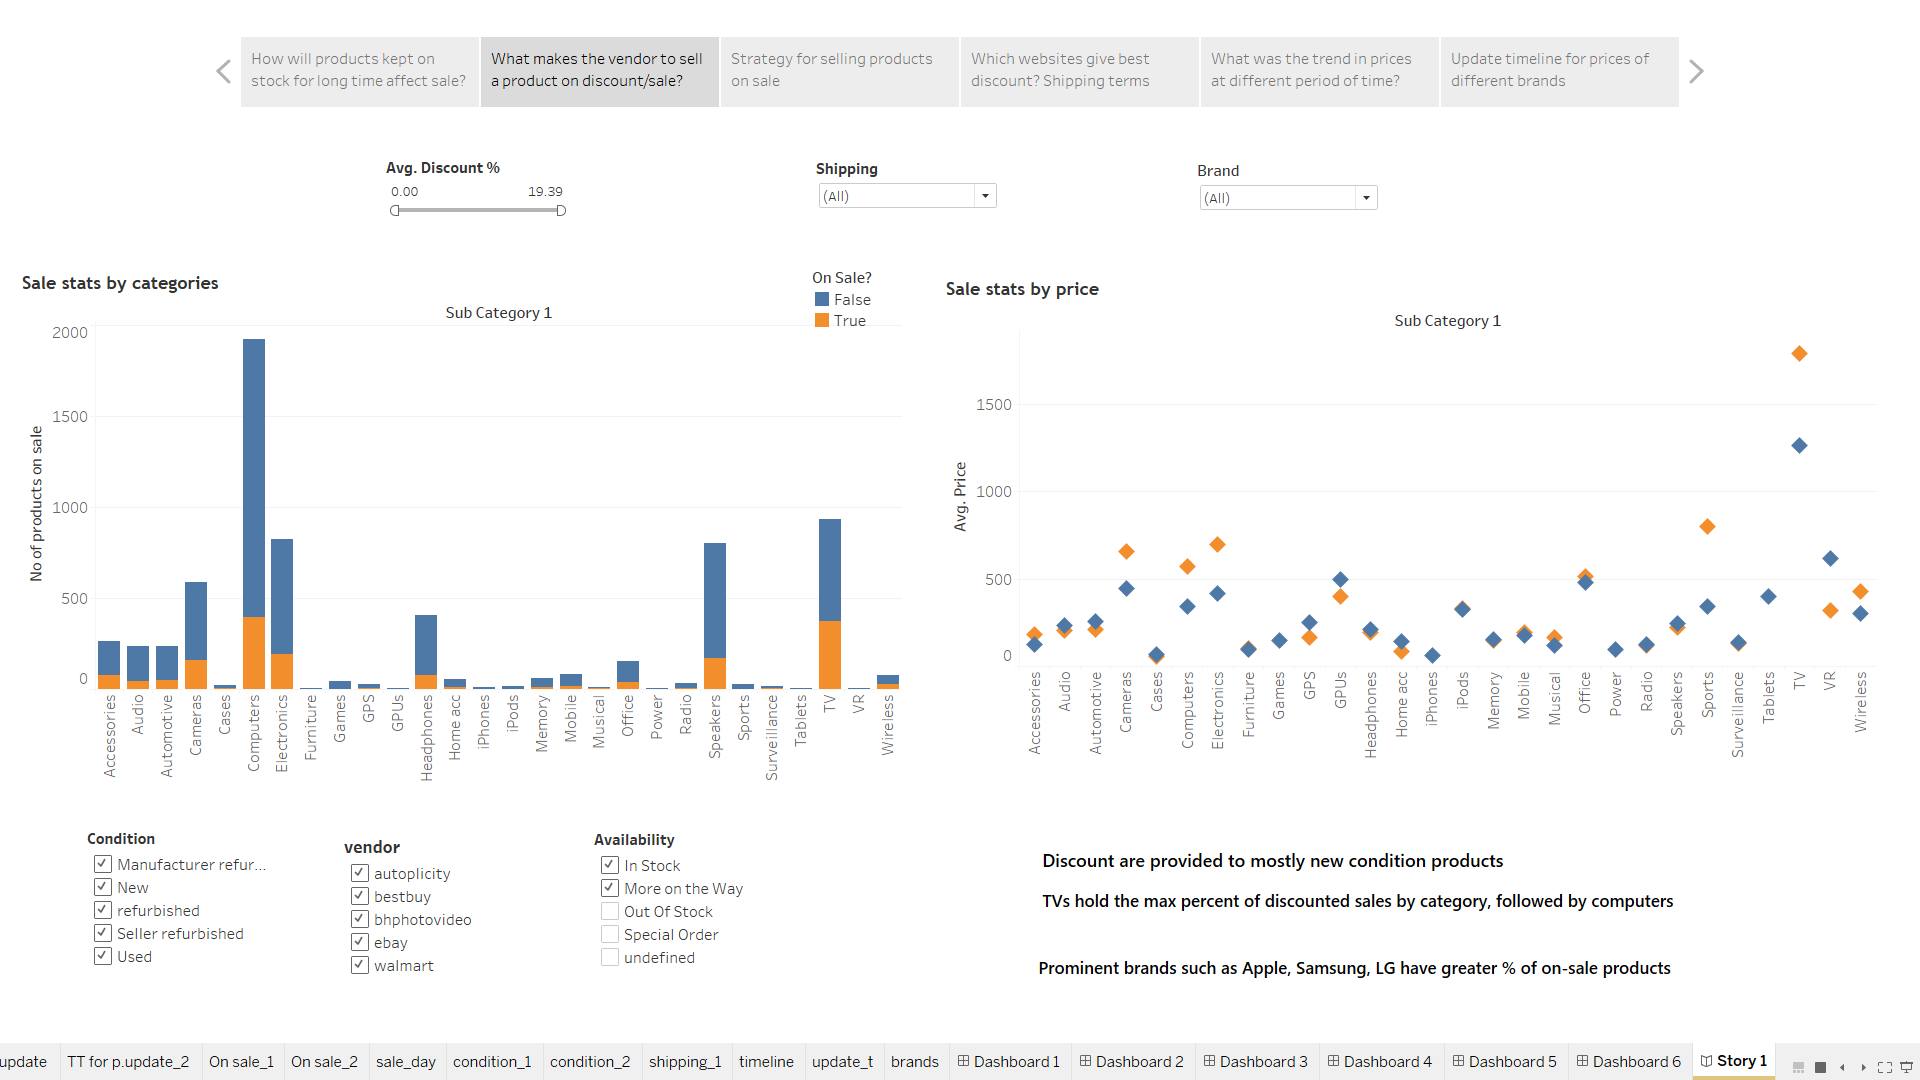

The page's visual inventory and layout, read from the dashboard file:
{"tool":"tableau","page":{"name":"Dashboard 2","canvas":[1000,1000],"units":"permille","ordinal":1},"visuals":[{"type":"filter","title":"On sale_1","param":"[federated.1vl33a51myhwji18jspvm1r1us8n].[avg:Discount %:qk]","box":[198.6,32.5,96.6,75.5]},{"type":"filter","title":"On sale_1","param":"[federated.1vl33a51myhwji18jspvm1r1us8n].[none:Shipping:nk]","box":[424.3,33.7,96.6,61.6]},{"type":"filter","title":"On sale_1","param":"[federated.1vl33a51myhwji18jspvm1r1us8n].[none:brand:nk]","box":[624.6,36,96.6,61.6]},{"type":"legend","title":"On sale_1","param":"[federated.1vl33a51myhwji18jspvm1r1us8n].[none:On Sale?:nk]","box":[422.4,154.5,84.5,74.3]},{"type":"worksheet","title":"On sale_1","mark":"Automatic","rows":["ProductData_cleaned_1.csv_88F6F32D96684C72BF887400D1DB8C06"],"cols":["sub category 1"],"box":[5.4,155.6,464.1,573.8]},{"type":"worksheet","title":"On sale_2","mark":"Shape","rows":["prices_amountmax"],"cols":["sub category 1"],"box":[490.7,161.4,490.7,542.4]},{"type":"text","box":[541.3,768.9,295.7,76.7]},{"type":"filter","title":"On sale_1","param":"[federated.1vl33a51myhwji18jspvm1r1us8n].[none:Condition:nk]","box":[41.6,772.4,96.6,166.1]},{"type":"filter","title":"On sale_2","param":"[federated.1vl33a51myhwji18jspvm1r1us8n].[none:Availability:nk]","box":[307.8,773.5,96.6,166.1]},{"type":"filter","title":"On sale_1","param":"[federated.1vl33a51myhwji18jspvm1r1us8n].[none:prices_sourceurls:nk]","box":[176.2,779.3,96.6,195.1]},{"type":"text","box":[541.3,815.3,367.5,74.3]},{"type":"text","box":[539.5,899,388.7,53.4]}]}

Visuals, with their boxes on the dashboard's canvas, which has no fixed pixel size, in thousandths of its width and height (x1, y1, x2, y2). These are canvas units, not pixel positions in the 1920x1080 screenshot, which may show the page scaled, cropped or inside an application window:
"On sale_1" filter: [199,32,295,108]
"On sale_1" filter: [424,34,521,95]
"On sale_1" filter: [625,36,721,98]
"On sale_1" legend: [422,154,507,229]
"On sale_1" worksheet: [5,156,470,729]
"On sale_2" worksheet (Shape marks): [491,161,981,704]
text: [541,769,837,846]
"On sale_1" filter: [42,772,138,938]
"On sale_2" filter: [308,774,404,940]
"On sale_1" filter: [176,779,273,974]
text: [541,815,909,890]
text: [540,899,928,952]
